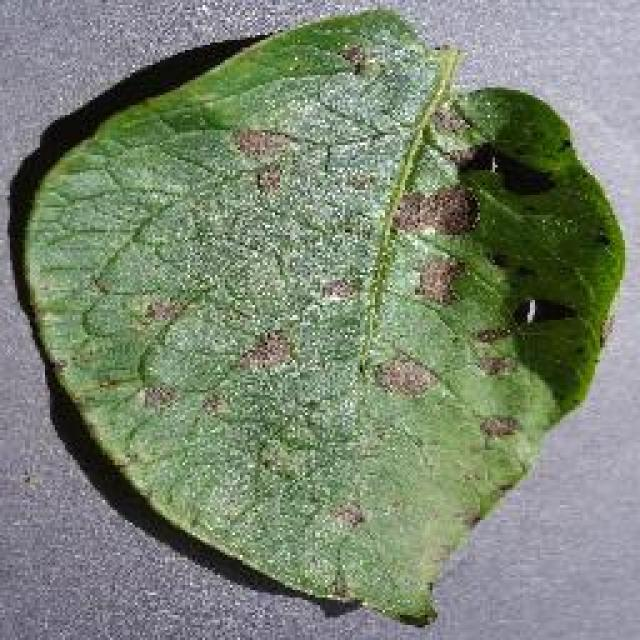Potato___Early_blight: (23, 6, 630, 624)
